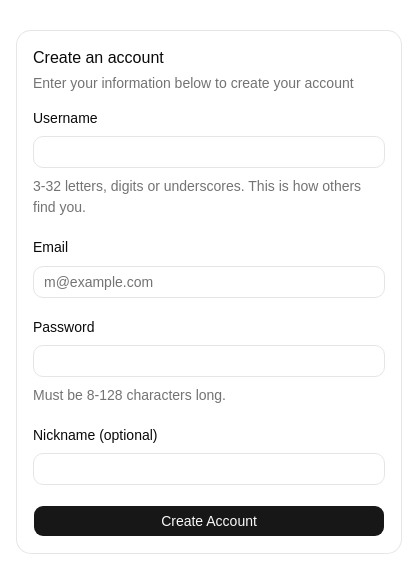
Test: signup page › maps API validation details onto the matching fields
Type "alice" into the field labelled "Username". click: (209, 152)
box: [33,136,385,168]
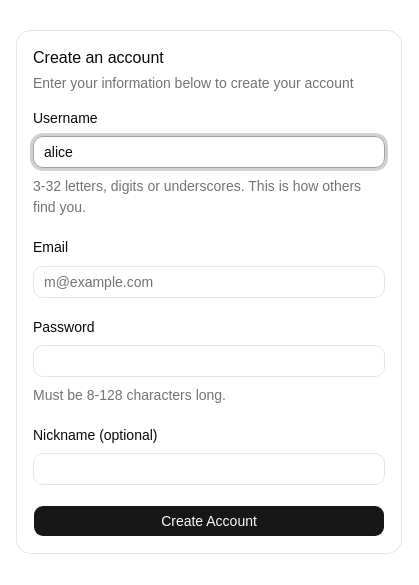
Type "alice@example.com" into the field labelled "Email". click: (209, 282)
box: [33,266,385,298]
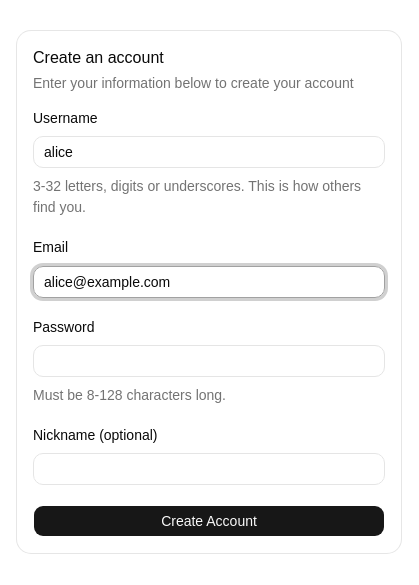
Type "correct horse battery" into the password field labelled "Password". click: (209, 361)
box: [33,345,385,377]
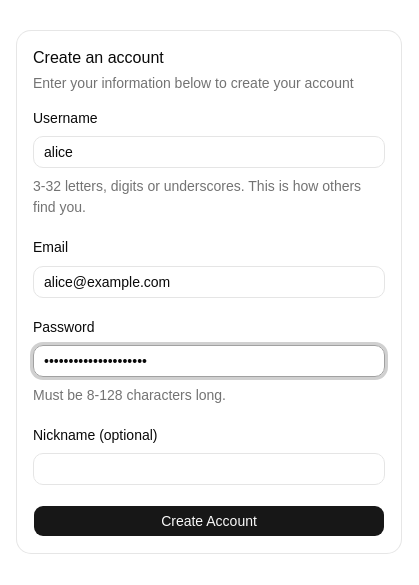
Click the button "Create Account". click: (209, 521)
box: [33,505,385,537]
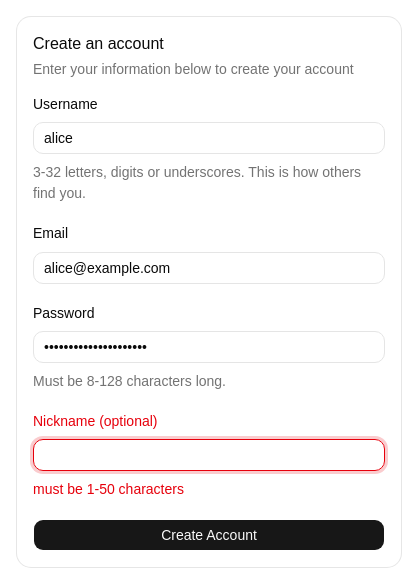
Expected: the message reads "must be 1-50 characters", [33,481,184,497]
